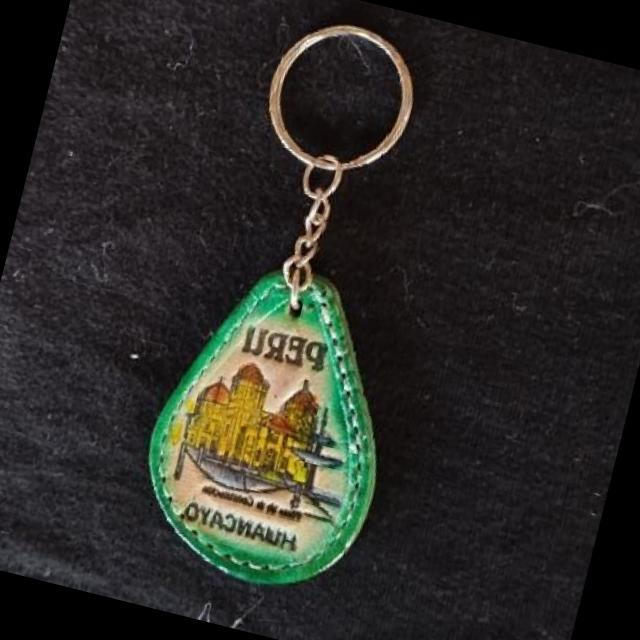Llavero: (120, 243, 422, 608)
